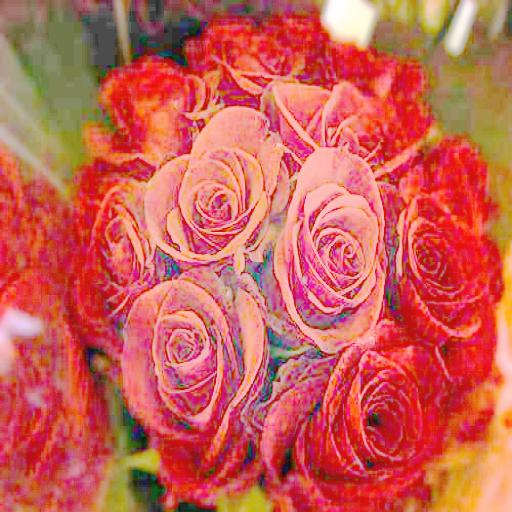rose: (266, 321, 442, 512), (121, 278, 262, 433), (276, 152, 384, 348), (150, 105, 280, 261), (400, 192, 490, 342)
